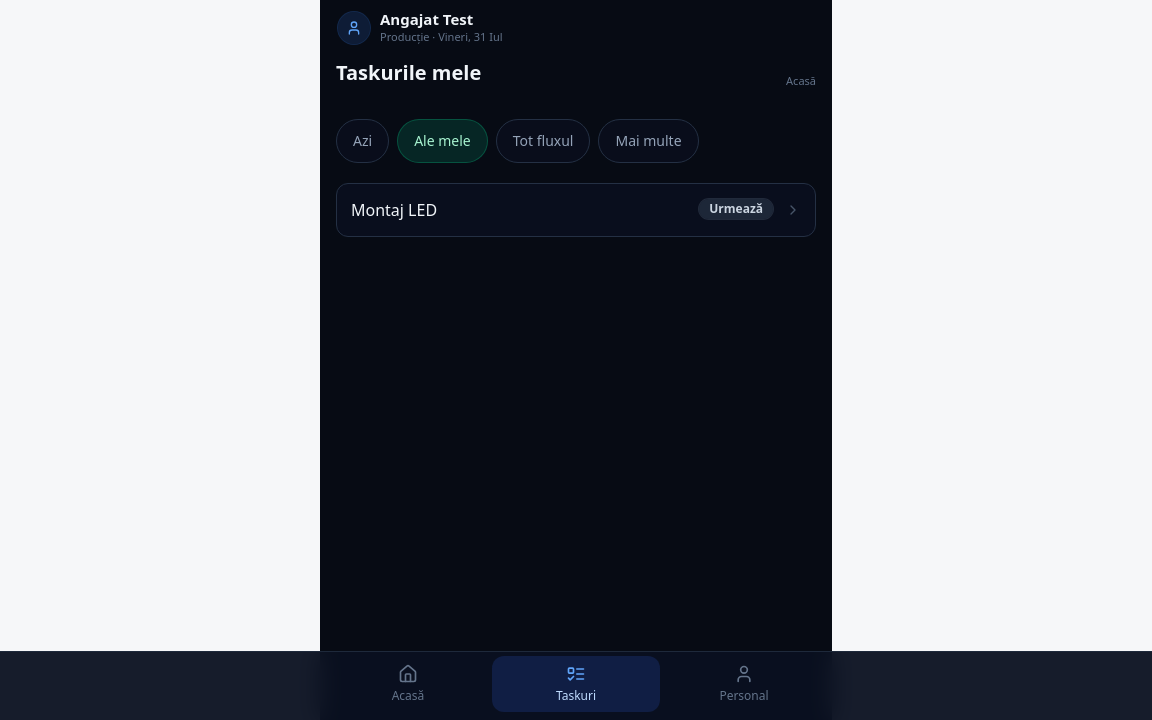
Test: EmployeeMobileApp shell › shows intake work file document with Deschide link
This screenshot has width=1152, height=720.
What coordinates should you click on to do the following:
click the button with test id "employee-mobile-task-card-T-006"
I would click on:
 (394, 210)
Its box is [337, 184, 815, 236].
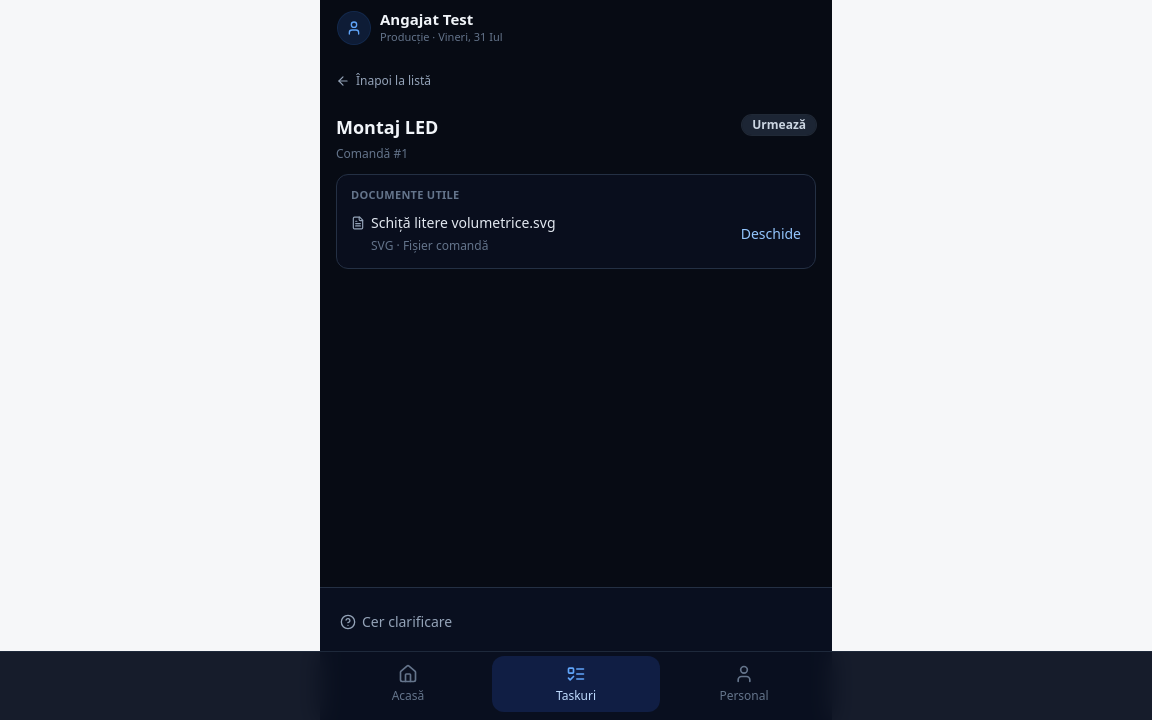
Expected: the list with test id "employee-mobile-task-documents-list" is shown, [351, 212, 801, 256]
Expected: the text "SVG · Fișier comandă" is shown, [371, 236, 488, 254]
